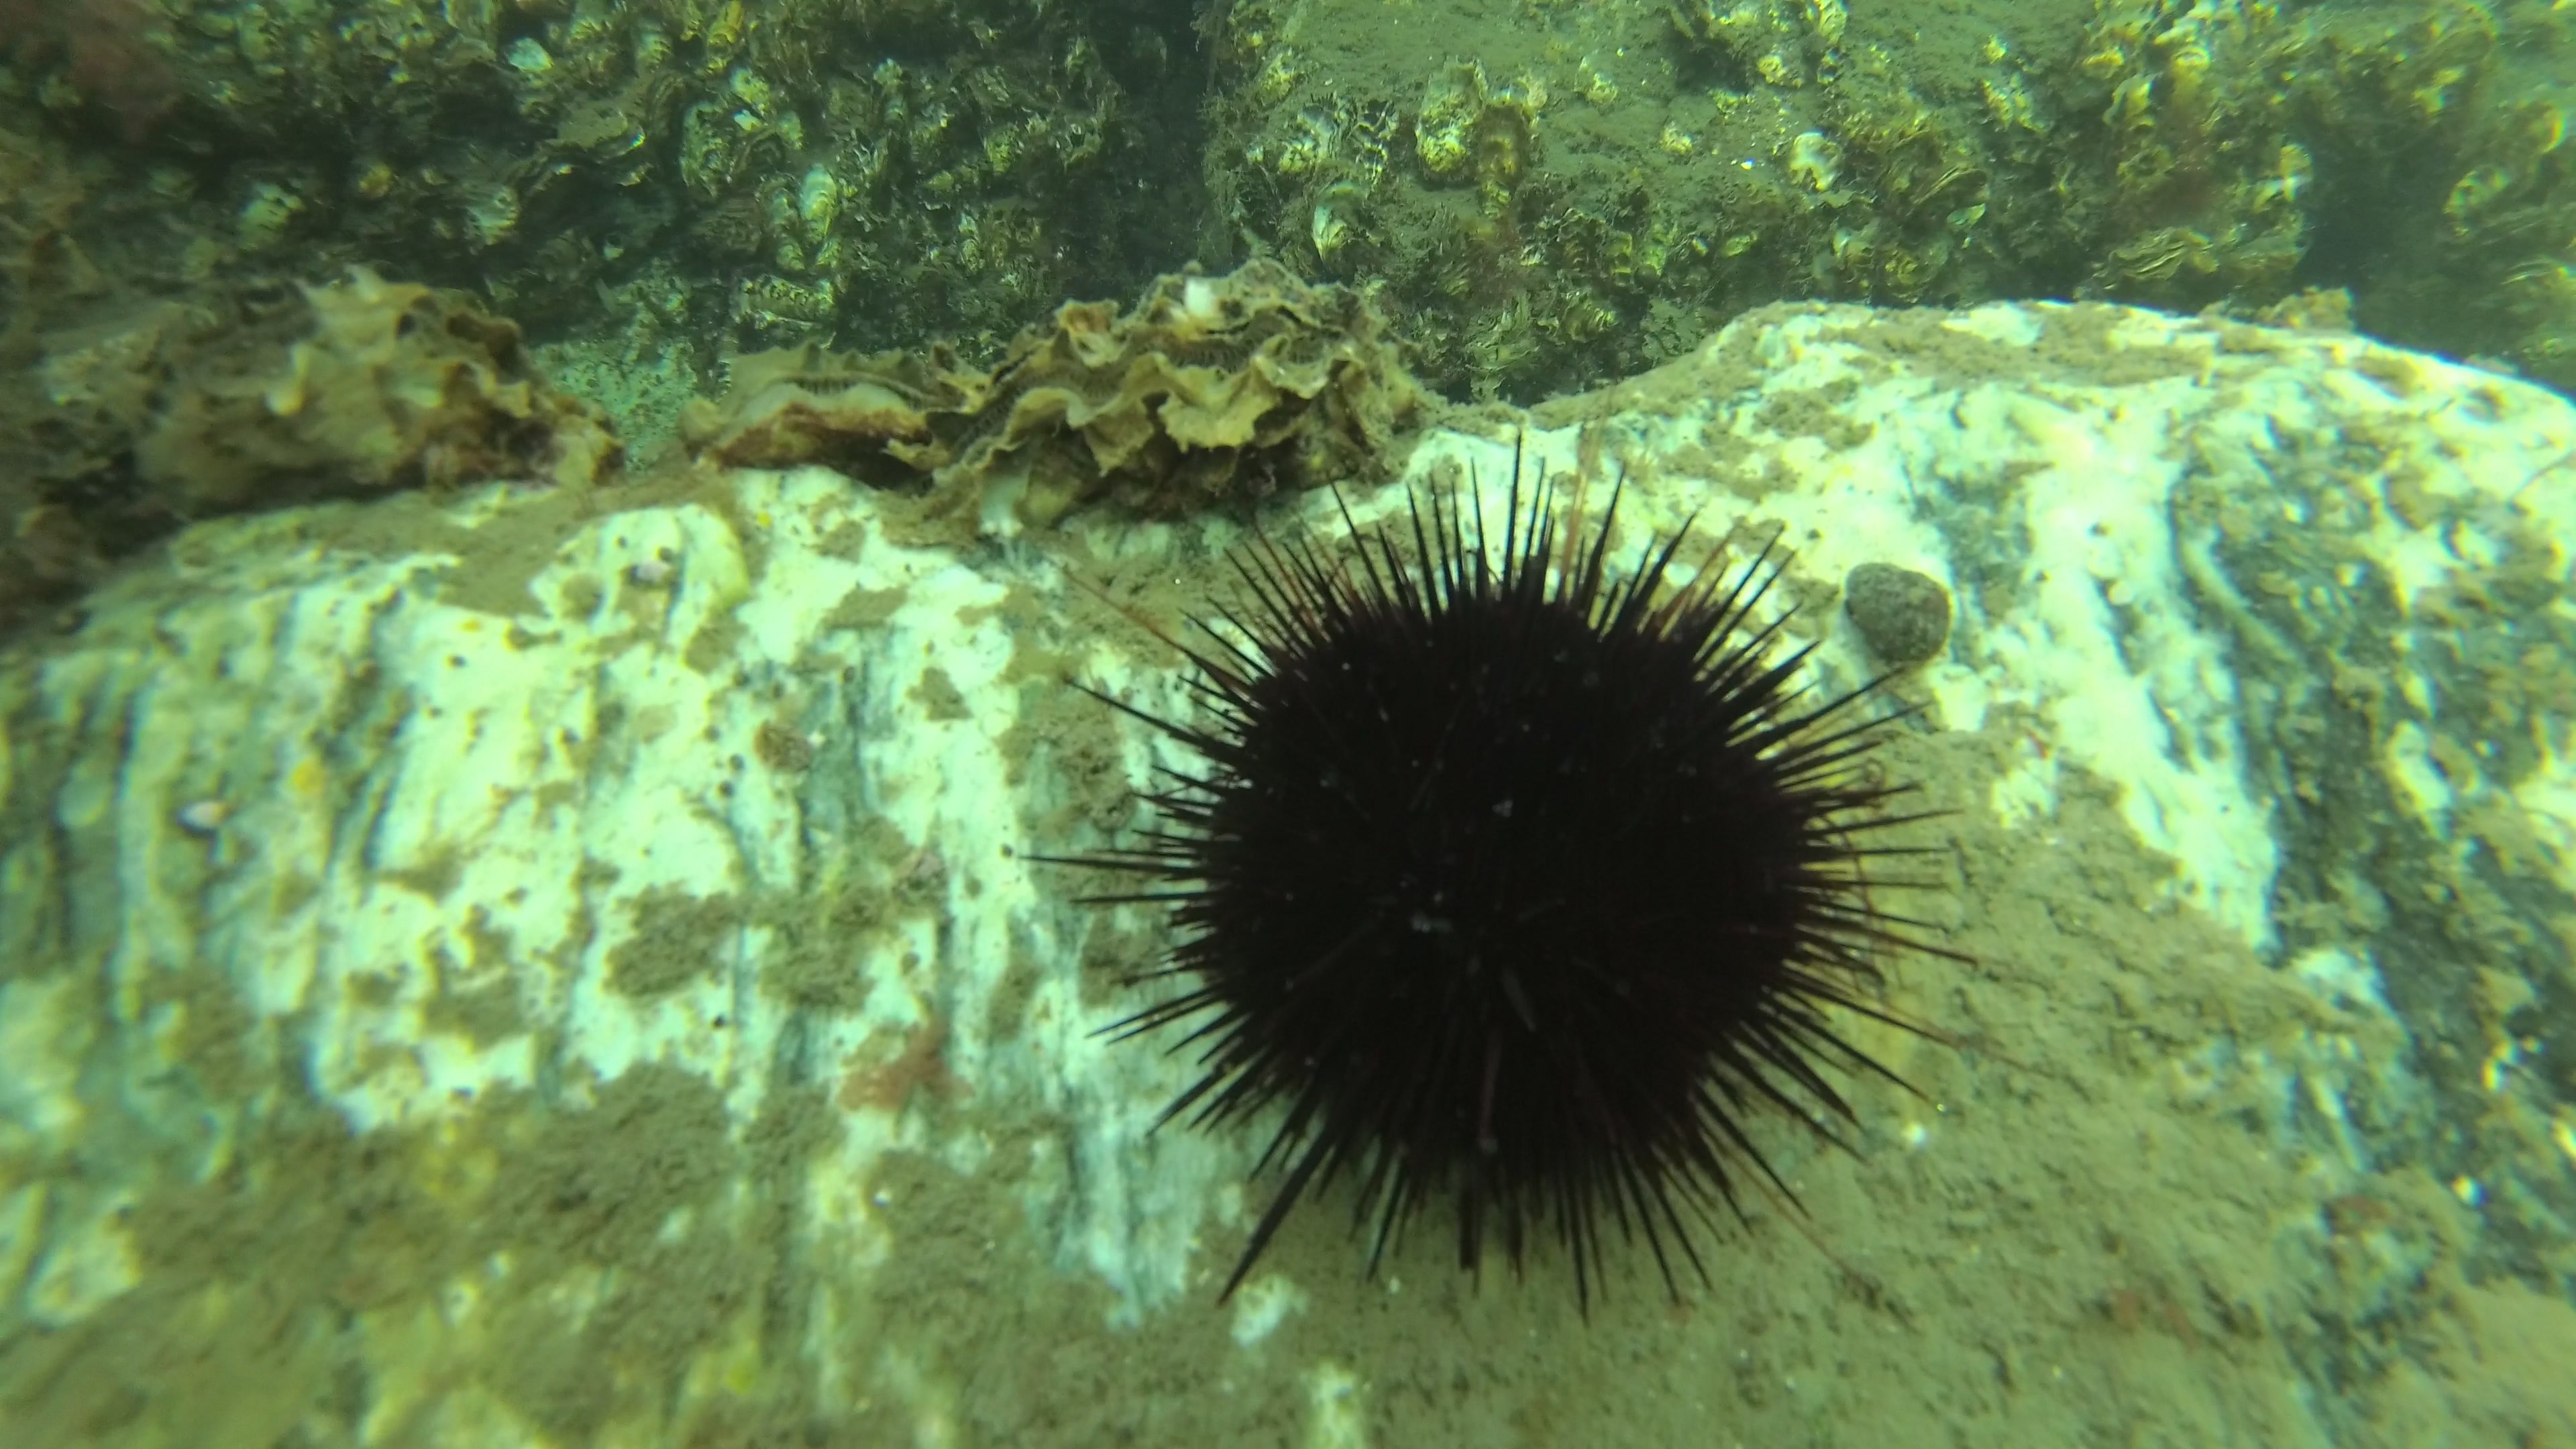echinus: (1028, 435, 1983, 1325)
